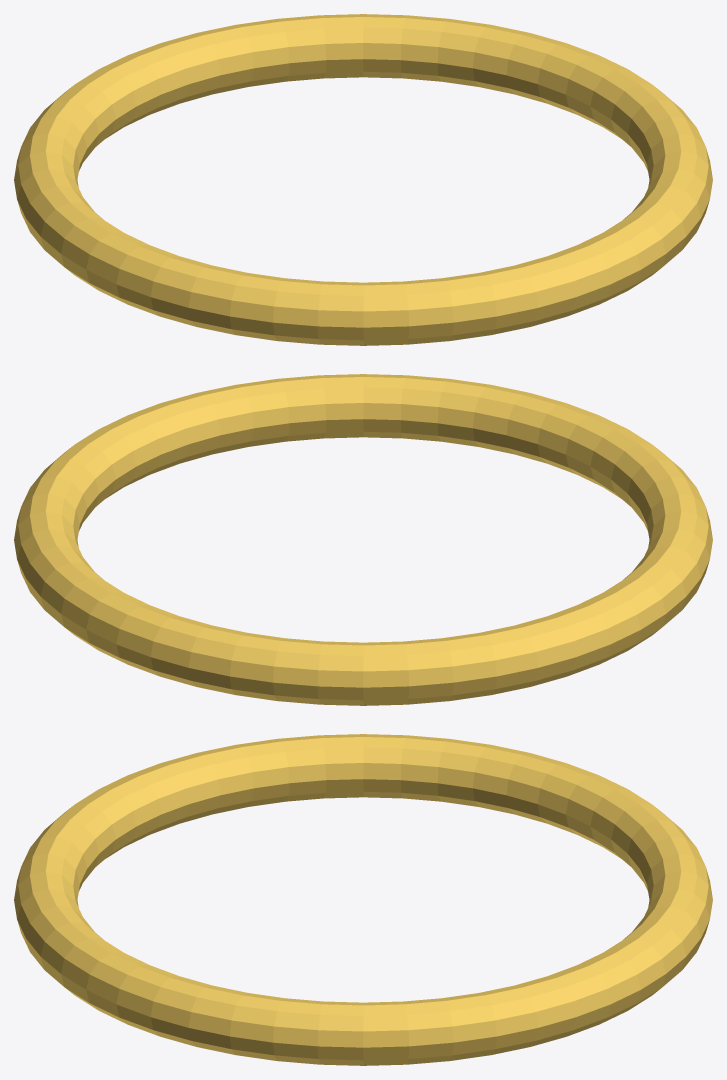
The picture shows the model from 3 angles, top to bottom: view 1: azimuth 30°, elevation 25°; view 2: azimuth 150°, elevation 25°; view 3: azimuth 270°, elevation 25°; orthographic projection.
Size of the model in its own units: 2.64 by 0.24 by 2.64.
